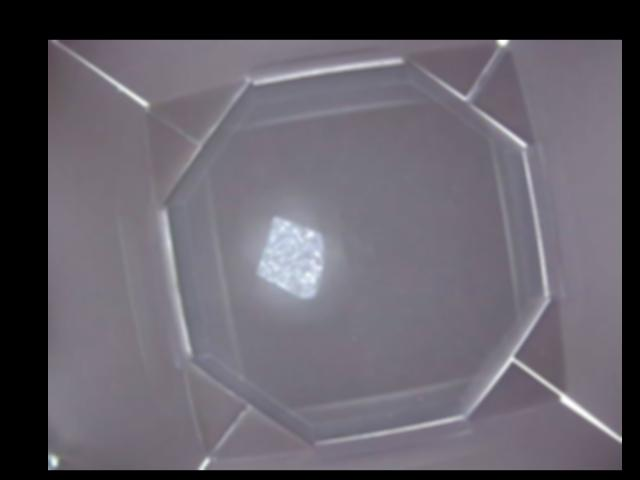China: (257, 217, 325, 299)
